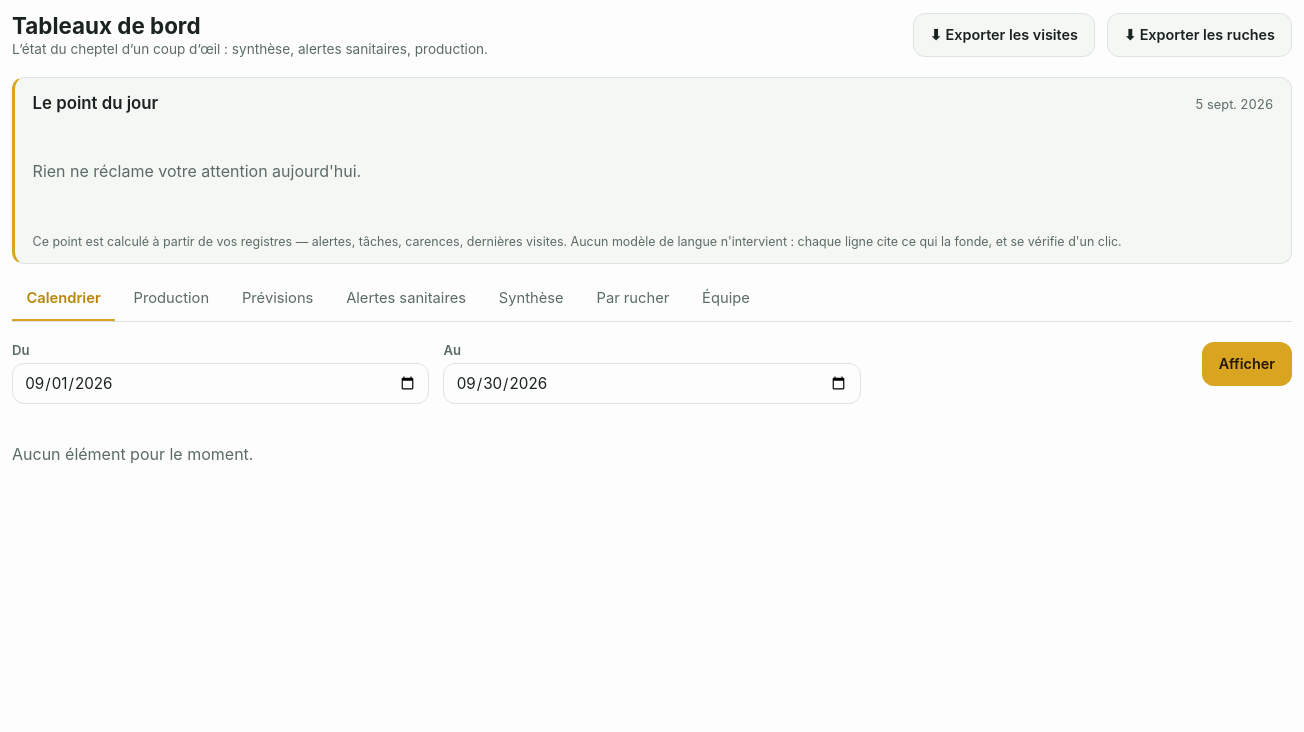
it: synthèse par rucher et charge d’équipe (SPRINT-23) › accompagne la moyenne du nombre de colonies réellement évaluées
Click the button "Par rucher" at (633, 299), box [582,277,684,321]
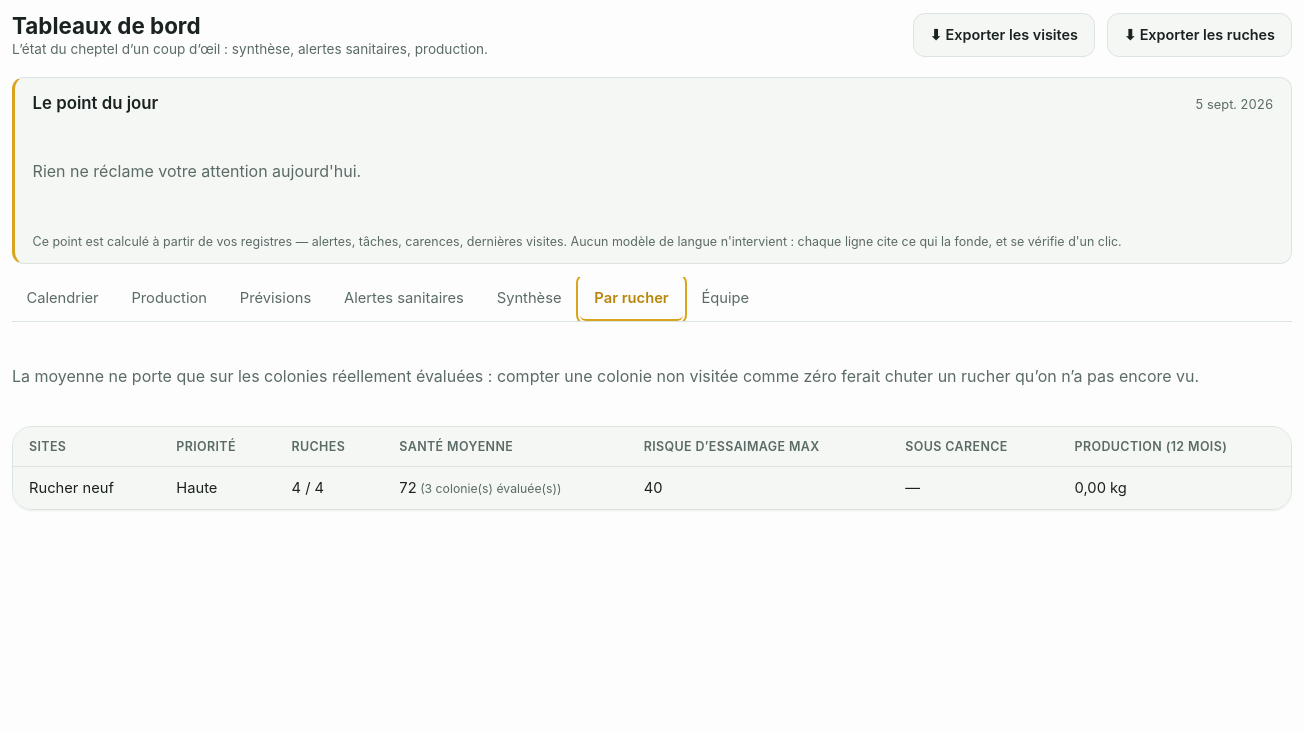
expect the text "(3 colonie(s) évaluée(s))" is shown: met, box [420,481,561,496]
